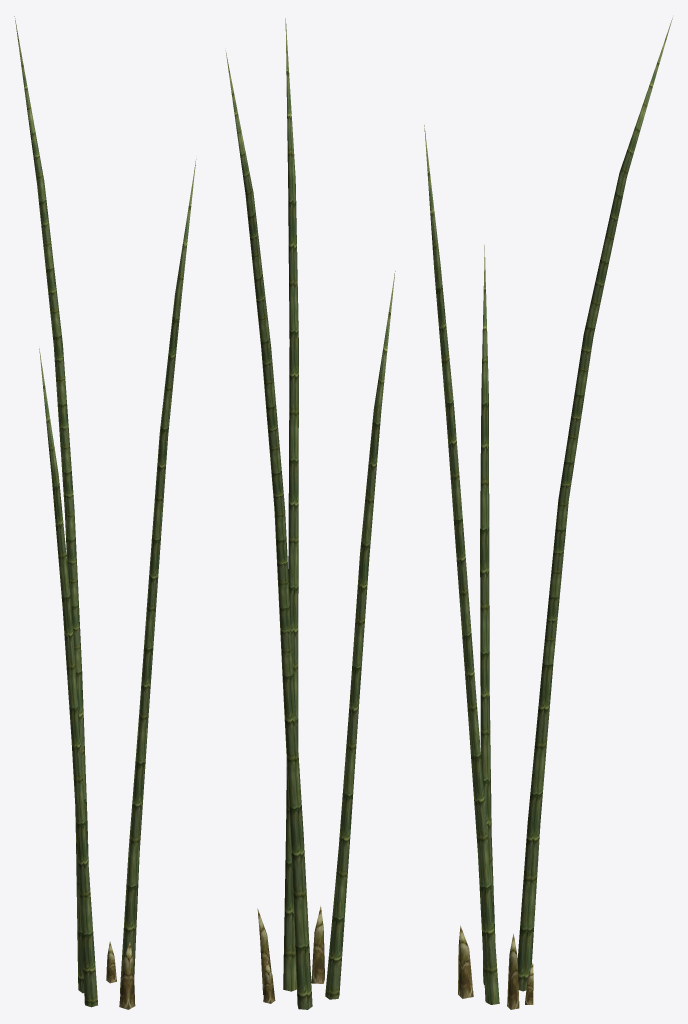
Rendered from zhuzi_zhugan_tyc_01.FBX.
3 renders of one model, left to right at view 1: azimuth 30°, elevation 25°; view 2: azimuth 150°, elevation 25°; view 3: azimuth 270°, elevation 25°, orthographic. The views are drawn at different scales.
Visible parts, largest first — view 1: Cylinder03; view 2: Cylinder03; view 3: Cylinder03.
Boxes of the visible parts, <box> form: Cylinder03: <box>14,16,196,1009</box>; Cylinder03: <box>225,18,395,1009</box>; Cylinder03: <box>424,17,672,1009</box>.
Bounding box in the file's own units: 220 × 1509 × 350.
